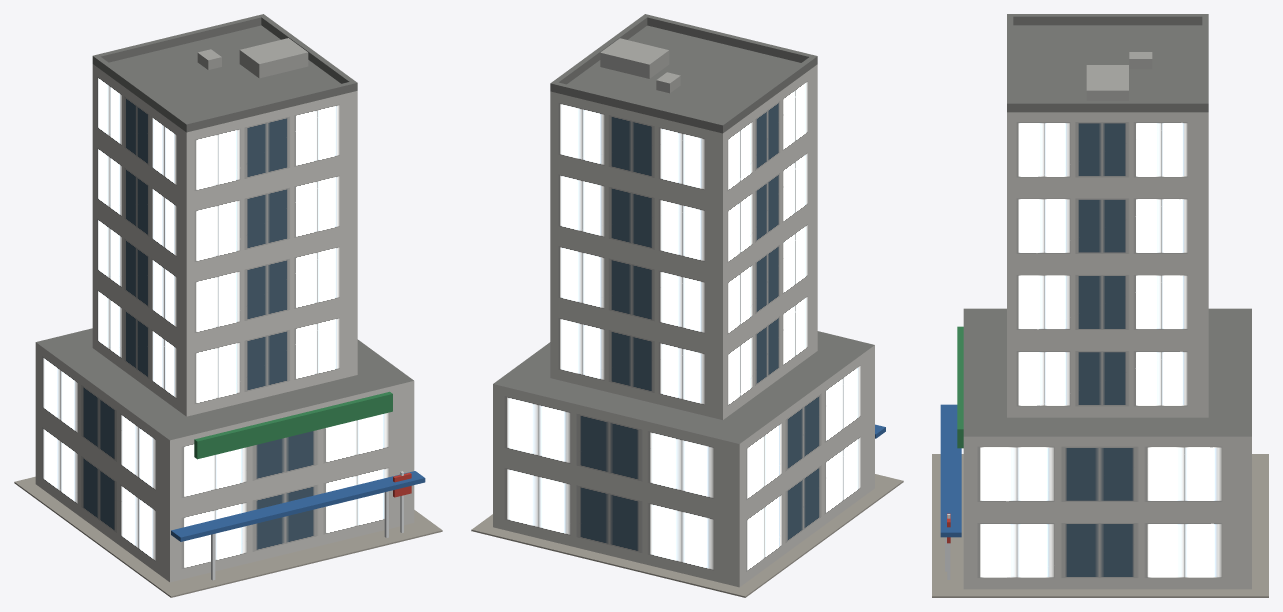
The model's file is ch-atlas.glb.
The picture shows the model from 3 angles, left to right: view 1: azimuth 30°, elevation 25°; view 2: azimuth 150°, elevation 25°; view 3: azimuth 270°, elevation 25°; orthographic projection. The views are drawn at different scales.
Parts seen in each view (by area): view 1: atlas; view 2: atlas; view 3: atlas.
Part boxes in pixels (x1,y1,x2,y2): atlas: [14, 14, 442, 597]; atlas: [471, 14, 903, 597]; atlas: [932, 14, 1268, 597].
Size of the model in its own units: 16 by 24.88 by 16.
1 material, 1 textured.
